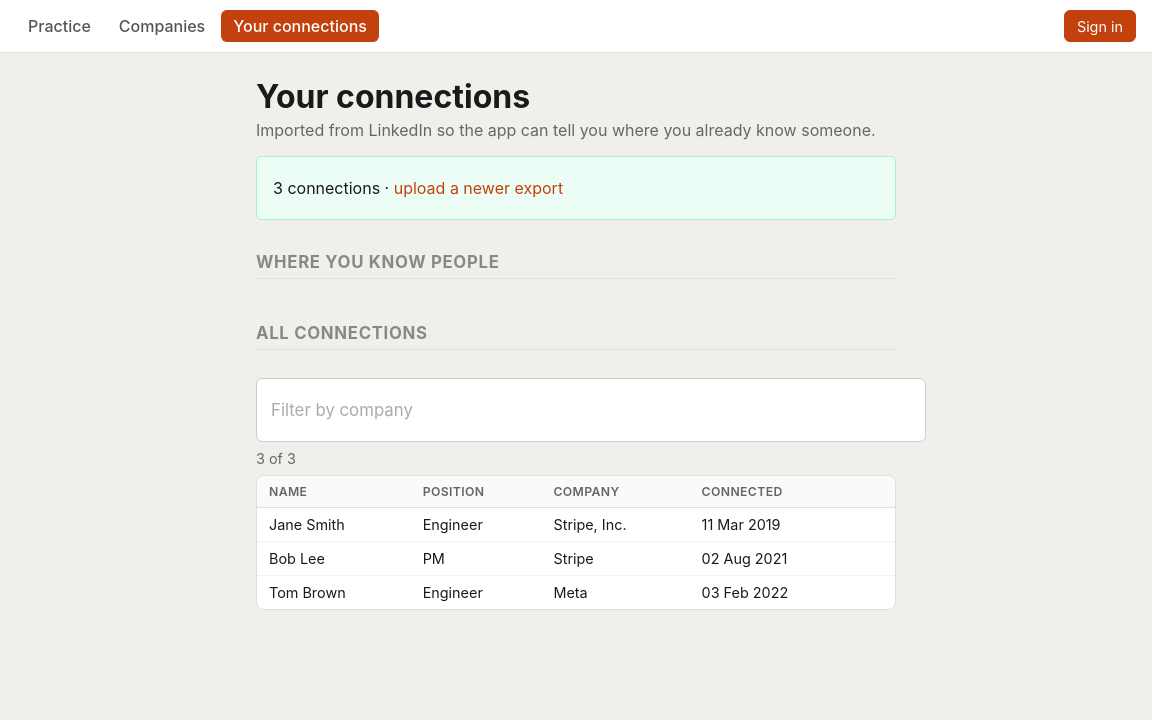
the connections table lists everyone and the filter narrows it by company
Expected: the heading "Your connections" is shown, [256,77,530,116]
Expected: the text "Jane Smith" is shown, [257,508,411,542]
Type "stripe" into the field with placeholder "Filter by company" at x=591, y=410, box [256,378,926,442]
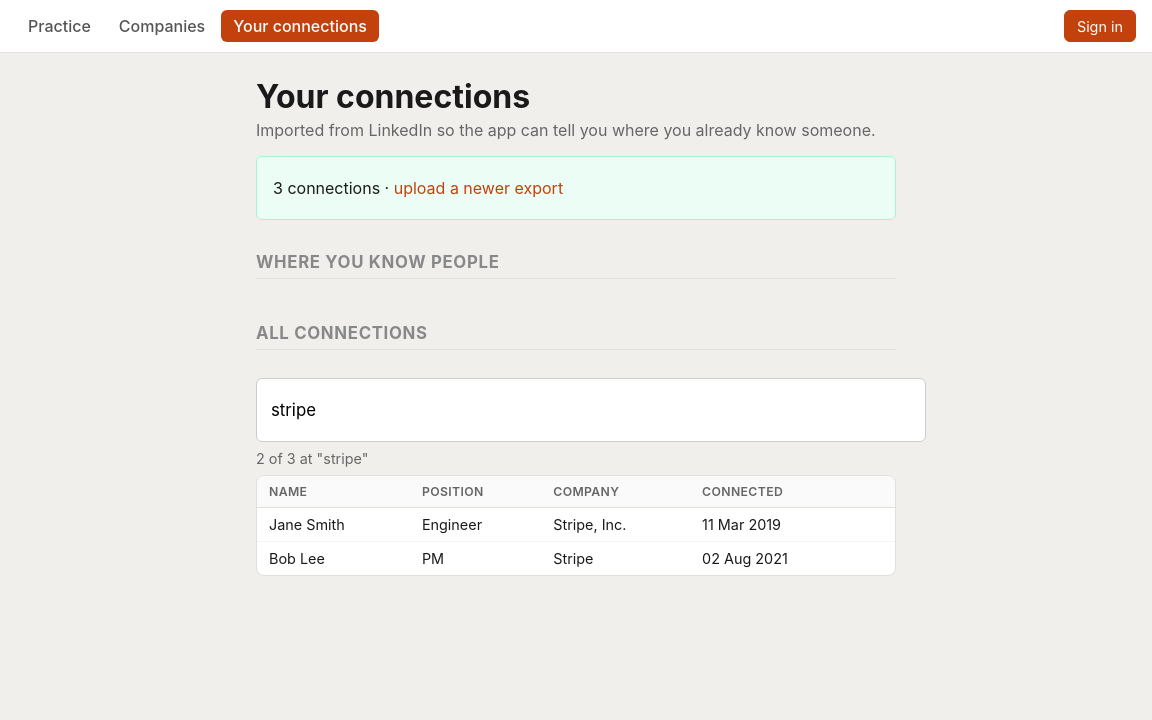
Expected: the text "Jane Smith" is shown, [257,508,410,542]
Result: the text "2 of 3 at \"stripe\"" is shown at [256,450,368,467]
Result: the text "Tom Brown" is gone
